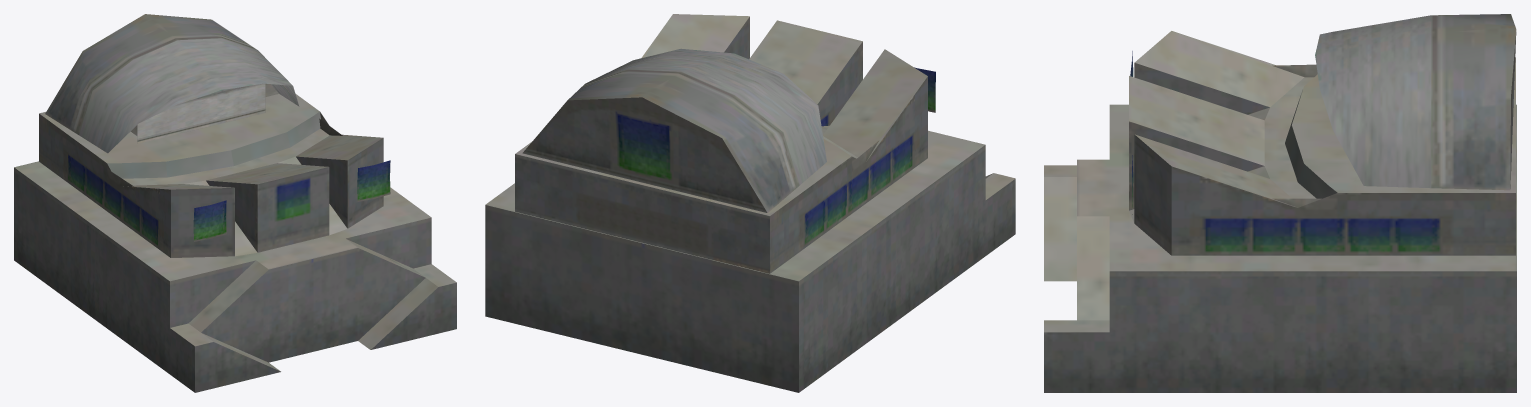
Rendered from ply_corl_theater_s01_r0_exterior_mesh_l2.fbx.
3 views of the same model, side by side, from view 1: azimuth 30°, elevation 25°; view 2: azimuth 150°, elevation 25°; view 3: azimuth 270°, elevation 25° (orthographic). The views are drawn at different scales.
Parts seen in each view (by area): view 1: mesh_node; view 2: mesh_node; view 3: mesh_node.
Boxes of the visible parts, x1,y1,x2,y2 form: mesh_node: (14,14,456,392); mesh_node: (485,14,1015,392); mesh_node: (1044,14,1516,392).
Bounding box in the file's own units: 25.6 × 20.05 × 30.67.
Materials: 1 (1 with a texture image).
